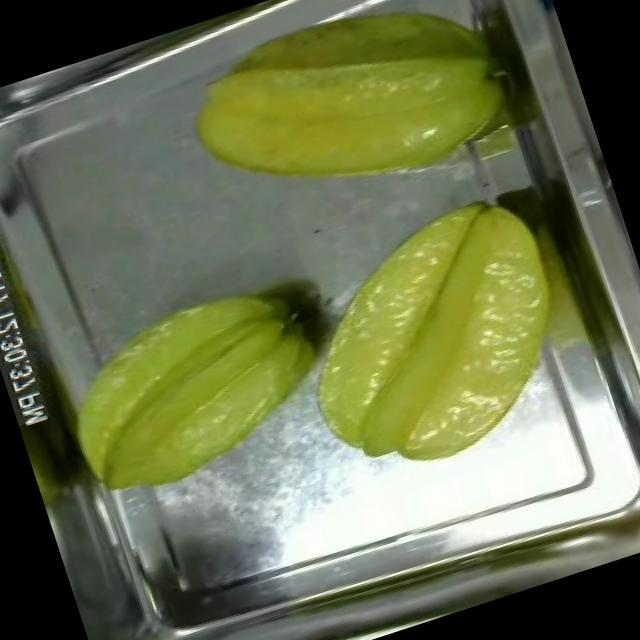fruit: (258, 170, 611, 508), (155, 0, 547, 252), (31, 255, 354, 523)
